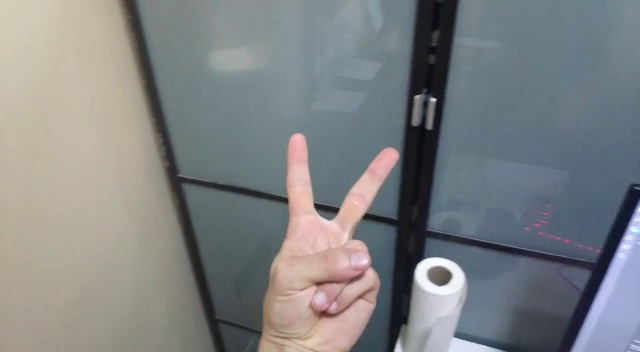Peace: (247, 131, 405, 349)
